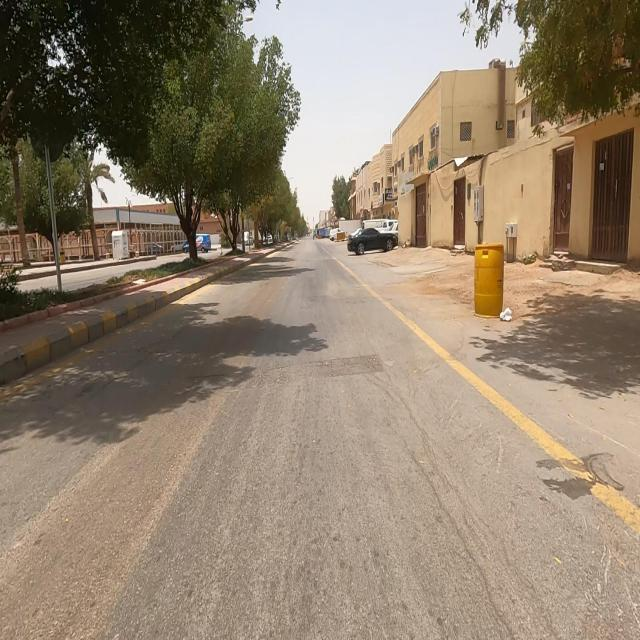debris: (474, 266, 540, 368), (506, 207, 554, 306)
